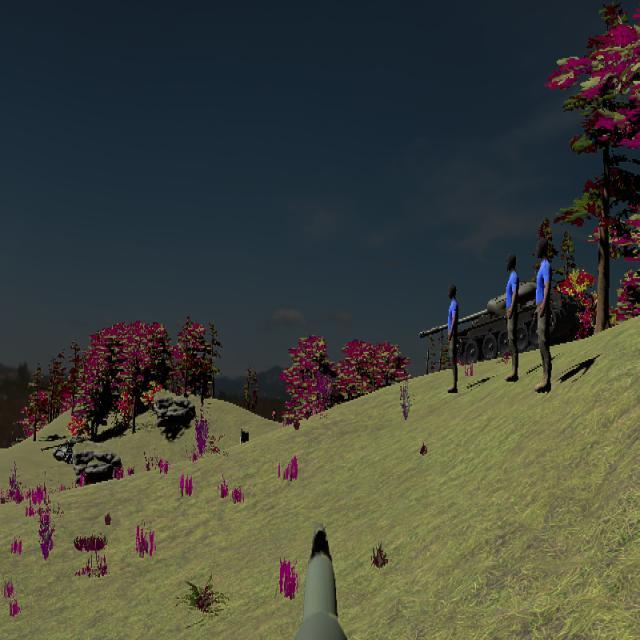Human: (533, 238, 554, 392), (532, 239, 553, 388), (505, 252, 521, 375), (505, 253, 520, 378), (448, 282, 459, 390)
Tank: (417, 290, 575, 364), (418, 289, 559, 366)
